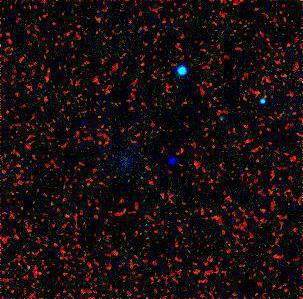star: (161, 144, 191, 174)
